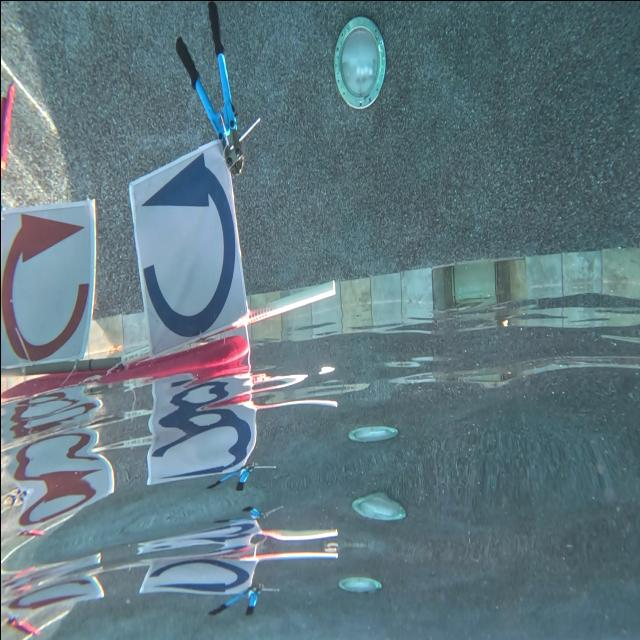blue_side: (125, 141, 250, 354)
red_side: (0, 199, 94, 369)
